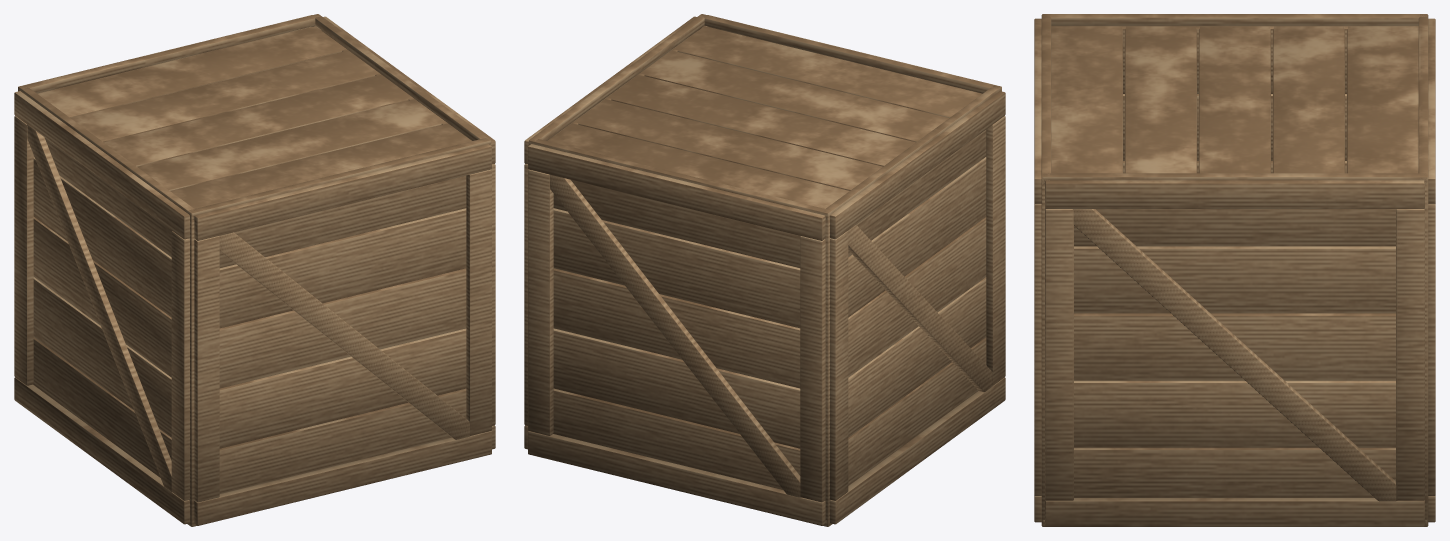
File: SM_WoodCrate.fbx
3 renders of one model, left to right at view 1: azimuth 30°, elevation 25°; view 2: azimuth 150°, elevation 25°; view 3: azimuth 270°, elevation 25°, orthographic. The views are drawn at different scales.
Visible parts, largest first — view 1: SM_WoodCrate; view 2: SM_WoodCrate; view 3: SM_WoodCrate.
Part boxes in pixels (x1,y1,x2,y2): SM_WoodCrate: (14,14,495,526); SM_WoodCrate: (524,14,1005,526); SM_WoodCrate: (1034,14,1435,526).
Size of what is drawn, in the model's own units: 1.25 by 1.2 by 1.25.
1 material, 1 textured.
